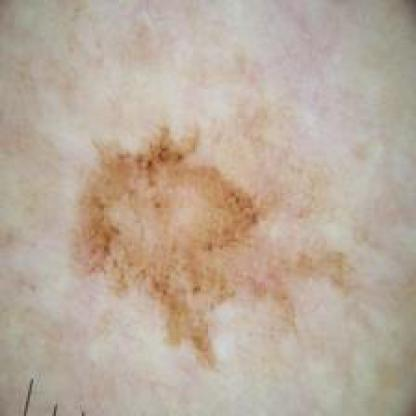malignant: (80, 136, 269, 356)
